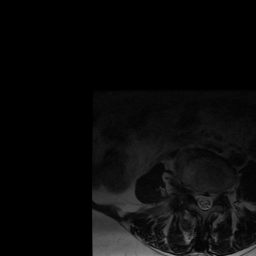CCS_normal: (200, 184, 207, 215)
LFS_normal: (214, 182, 223, 203)
LLS_normal: (207, 184, 214, 213)
RFS_stenosis: (187, 179, 194, 203)
RLS_normal: (194, 184, 200, 210)
